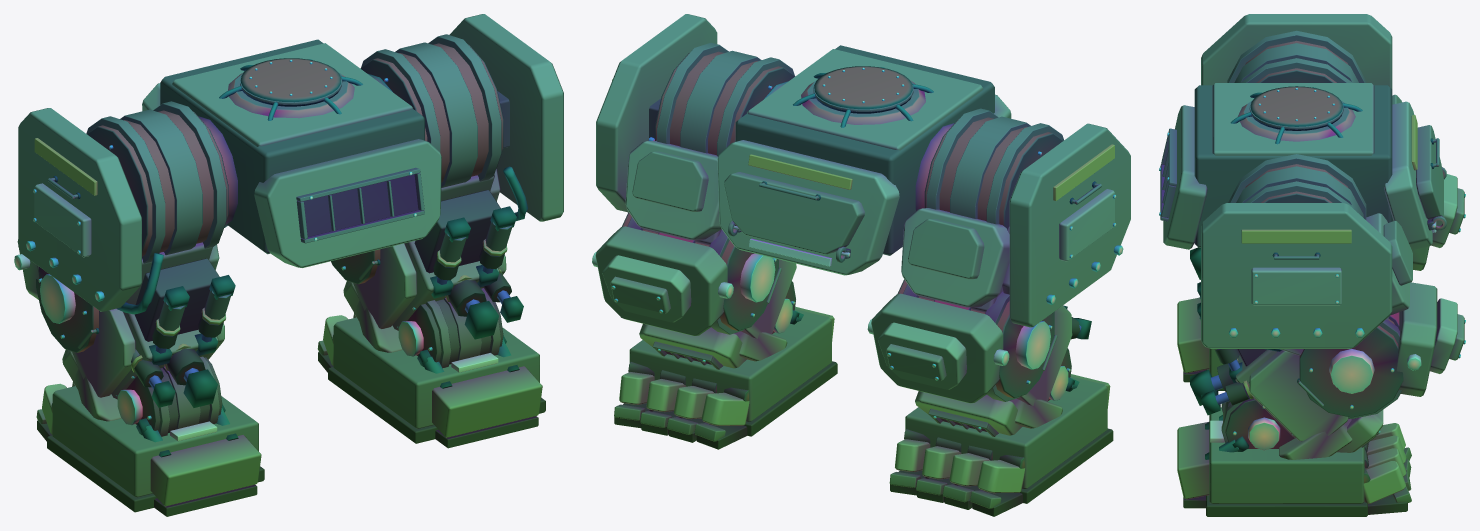
Rendered from legs_titan.glb.
The picture shows the model from 3 angles, left to right: view 1: azimuth 30°, elevation 25°; view 2: azimuth 150°, elevation 25°; view 3: azimuth 270°, elevation 25°; orthographic projection. The views are drawn at different scales.
Parts seen in each view (by area): view 1: Body__armor_sub, Body__dark, Leg_L__armor_sub, Leg_L__dark, Leg_R__armor_sub, Leg_L__gunmetal, Leg_R__dark, Leg_R_Ankle__gunmetal, Leg_R__gunmetal, Leg_L_Ankle__gunmetal, Leg_L_Ankle__armor_sub, Leg_R_Ankle__armor_sub (+20 smaller); view 2: Leg_L__armor_sub, Leg_R__armor_sub, Body__armor_sub, Body__dark, Leg_L__armor, Leg_L_Ankle__gunmetal, Leg_R_Ankle__gunmetal, Body__armor, Leg_R__armor, Leg_L__gunmetal, Leg_R__gunmetal, Leg_L__dark (+19 smaller); view 3: Leg_R__armor_sub, Body__armor_sub, Body__dark, Leg_R_Ankle__gunmetal, Leg_L__armor_sub, Leg_R__dark, Leg_R__armor, Leg_R_Knee__armor, Leg_R__gunmetal, Leg_L__gunmetal, Leg_R_Ankle__armor_sub, Body__gunmetal (+14 smaller).
Part boxes in pixels (<box>): Body__armor_sub: <box>172,43,441,267</box>; Body__dark: <box>160,39,424,254</box>; Leg_L__armor_sub: <box>17,108,212,313</box>; Leg_L__dark: <box>36,110,235,365</box>; Leg_R__armor_sub: <box>404,14,563,244</box>; Leg_L__gunmetal: <box>47,101,231,351</box>; Leg_R__dark: <box>331,43,516,298</box>; Leg_R_Ankle__gunmetal: <box>317,288,539,428</box>; Leg_R__gunmetal: <box>352,34,527,282</box>; Leg_L_Ankle__gunmetal: <box>36,356,258,497</box>; Leg_L_Ankle__armor_sub: <box>75,369,261,506</box>; Leg_R_Ankle__armor_sub: <box>356,300,542,437</box>; Leg_L__armor_sub: <box>871,123,1130,403</box>; Leg_R__armor_sub: <box>595,14,727,336</box>; Body__armor_sub: <box>724,49,1011,254</box>; Body__dark: <box>735,45,994,258</box>; Leg_L__armor: <box>878,189,1114,389</box>; Leg_L_Ankle__gunmetal: <box>889,376,1107,508</box>; Leg_R_Ankle__gunmetal: <box>614,309,831,441</box>; Body__armor: <box>717,140,899,275</box>; Leg_R__armor: <box>602,140,721,322</box>; Leg_L__gunmetal: <box>903,108,1101,401</box>; Leg_R__gunmetal: <box>627,42,794,334</box>; Leg_L__dark: <box>897,117,1096,398</box>; Leg_R__armor_sub: <box>1201,203,1464,396</box>; Body__armor_sub: <box>1163,83,1443,249</box>; Body__dark: <box>1194,85,1435,247</box>; Leg_R_Ankle__gunmetal: <box>1209,398,1411,503</box>; Leg_L__armor_sub: <box>1201,14,1464,270</box>; Leg_R__dark: <box>1197,164,1403,417</box>; Leg_R__armor: <box>1251,213,1457,373</box>; Leg_R_Knee__armor: <box>1249,350,1383,452</box>; Leg_R__gunmetal: <box>1199,154,1401,418</box>; Leg_L__gunmetal: <box>1227,30,1366,82</box>; Leg_R_Ankle__armor_sub: <box>1177,419,1352,499</box>; Body__gunmetal: <box>1160,87,1446,230</box>.
Size of the model in its own units: 3.07 by 2.19 by 1.89.
